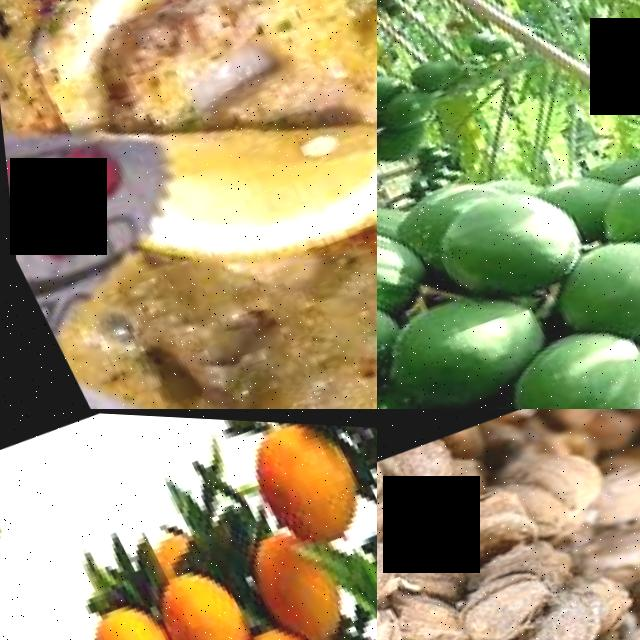lemon: (115, 57, 377, 308)
orange: (239, 416, 377, 549), (239, 519, 349, 640), (145, 560, 253, 640), (69, 591, 191, 640)
pawpaw: (410, 160, 598, 313), (377, 272, 559, 409), (477, 311, 640, 409), (535, 223, 640, 349), (580, 148, 640, 258), (377, 199, 427, 325), (377, 77, 438, 135), (401, 44, 468, 96), (377, 116, 433, 169), (377, 59, 412, 110)
